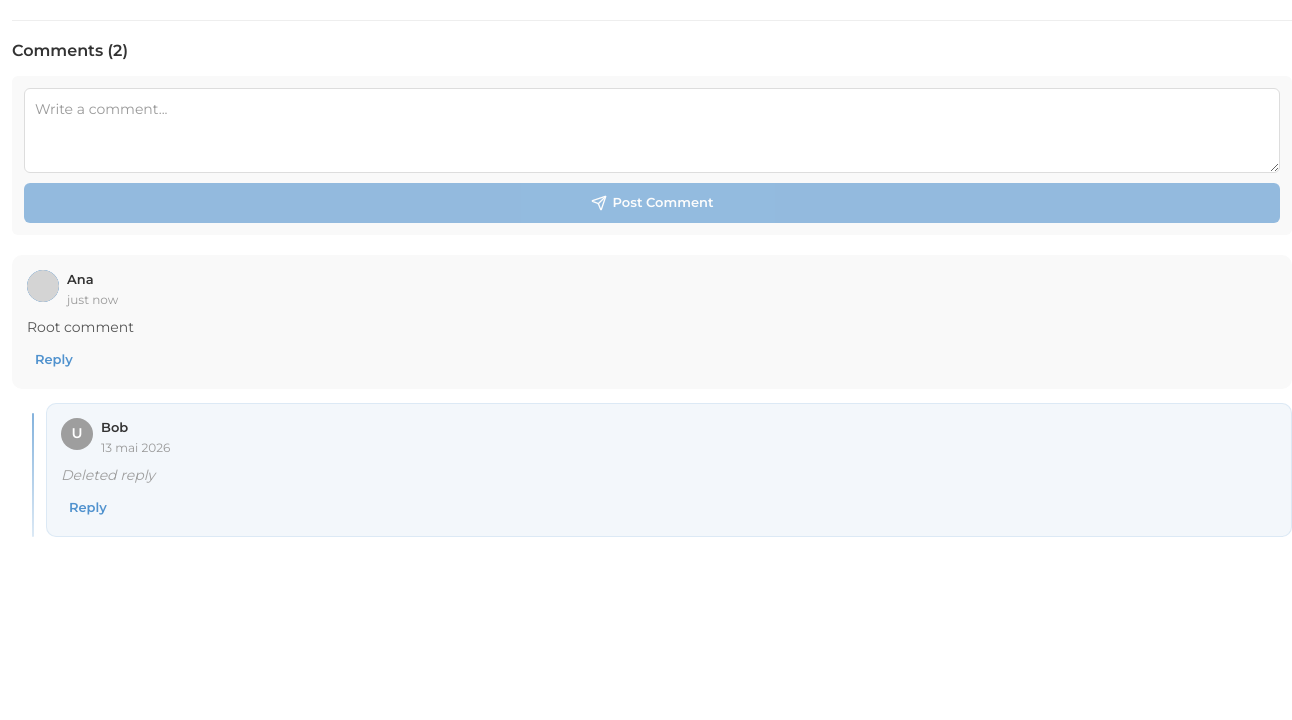
CommentsSection › removes the highlight after the timeout and shows reply response errors
Expected: the text "Root comment" is shown, [27, 318, 134, 336]
Click the button "Reply" below "Root comment": [54, 360] box [27, 346, 81, 374]
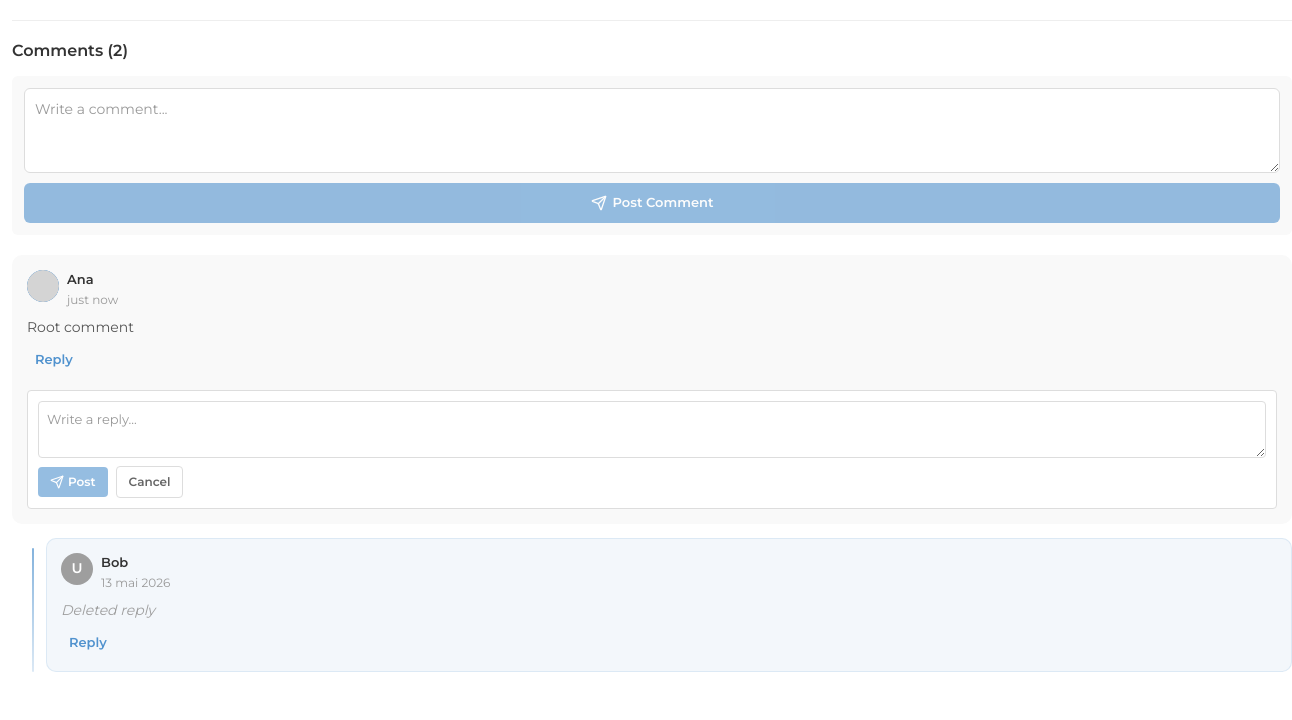
In the text box with placeholder "Write a reply...": [652, 429] box [38, 401, 1266, 458], type "Blocked reply"
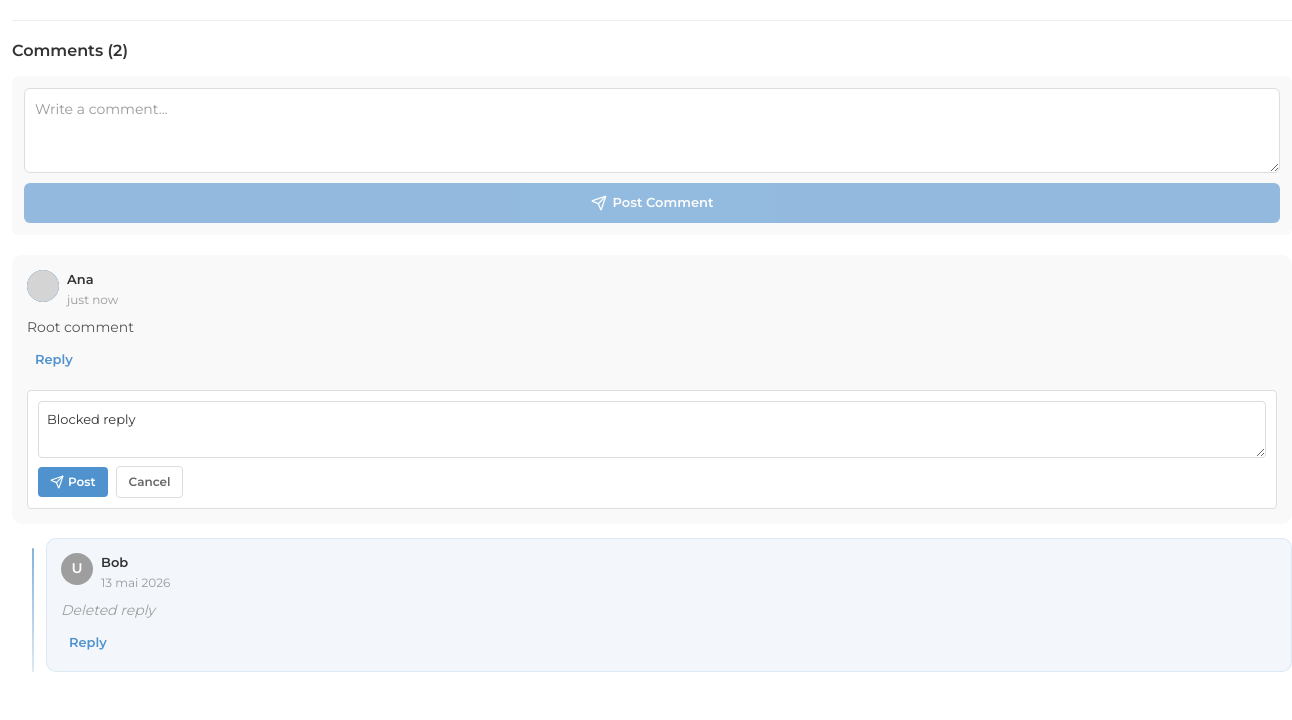
Click the button "Post": [73, 482] box [38, 467, 108, 497]
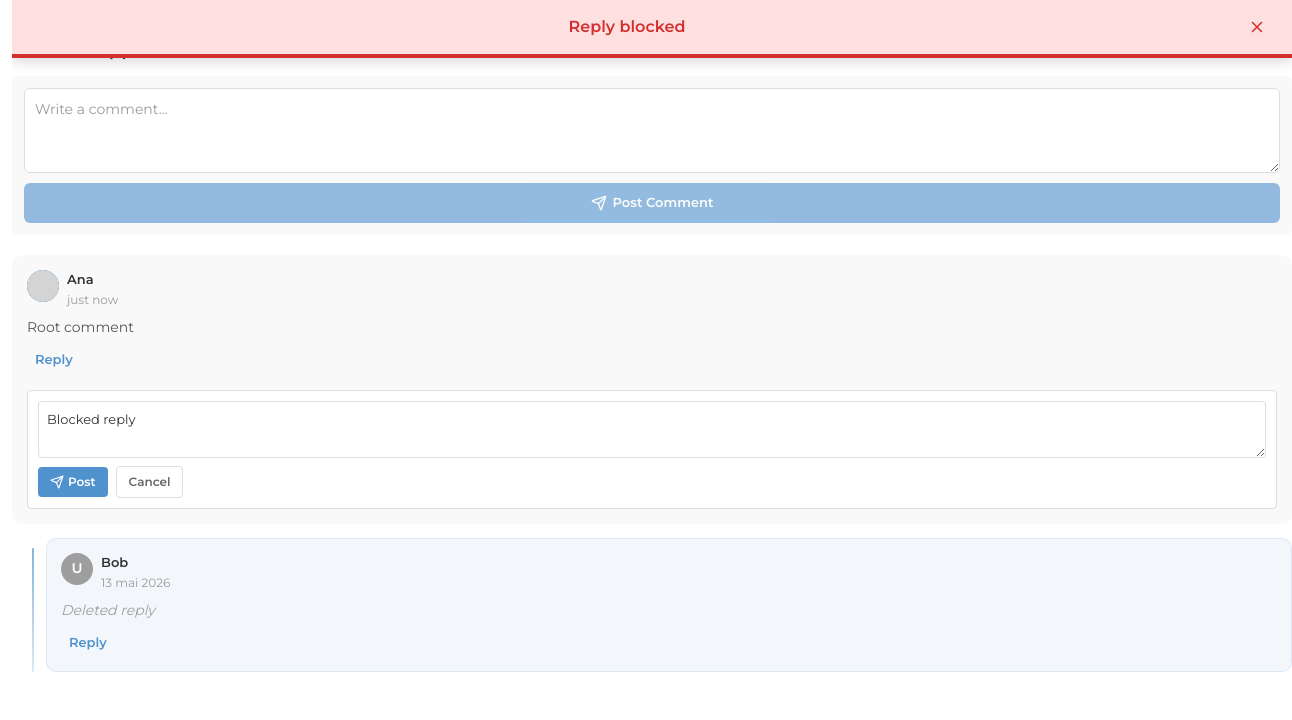
Now the text "Reply blocked" is shown, box [569, 17, 685, 36]
